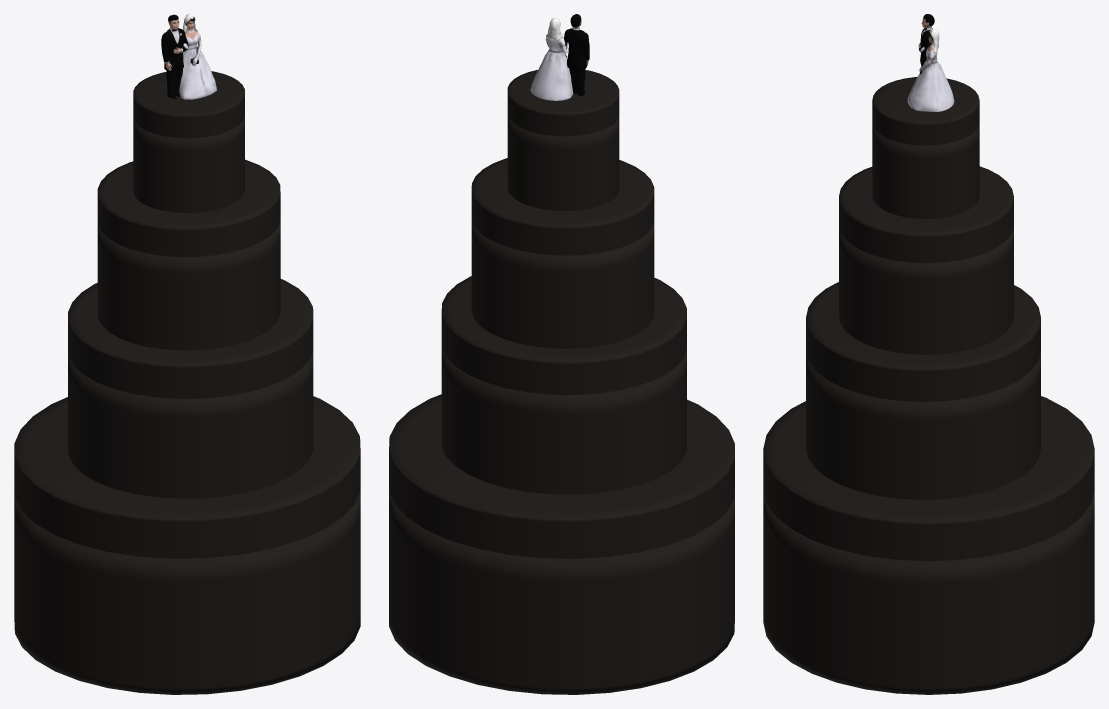
The model's file is 4-tier-black-none-bridegroom.glb.
3 views of the same model, side by side, from view 1: azimuth 30°, elevation 25°; view 2: azimuth 150°, elevation 25°; view 3: azimuth 270°, elevation 25° (orthographic).
Visible parts, largest first — view 1: 3.001, 3, 2, 1, 13501_Cake_Topper_Bride_Groom_v1_L1.001; view 2: 3.001, 3, 2, 1, 13501_Cake_Topper_Bride_Groom_v1_L1.001; view 3: 3.001, 3, 2, 1, 13501_Cake_Topper_Bride_Groom_v1_L1.001.
Part boxes in pixels (x1,y1,x2,y2): 3.001: [14, 396, 360, 694]; 3: [68, 279, 313, 498]; 2: [97, 159, 280, 350]; 1: [133, 71, 244, 212]; 13501_Cake_Topper_Bride_Groom_v1_L1.001: [161, 14, 216, 99]; 3.001: [389, 394, 734, 694]; 3: [441, 276, 686, 494]; 2: [471, 158, 654, 348]; 1: [507, 70, 619, 211]; 13501_Cake_Topper_Bride_Groom_v1_L1.001: [530, 14, 589, 100]; 3.001: [763, 396, 1094, 694]; 3: [806, 282, 1040, 499]; 2: [839, 166, 1013, 354]; 1: [872, 77, 979, 218]; 13501_Cake_Topper_Bride_Groom_v1_L1.001: [907, 14, 954, 111].
Size of the model in its own units: 4.43 by 8.54 by 4.27.
2 materials, 1 textured.
